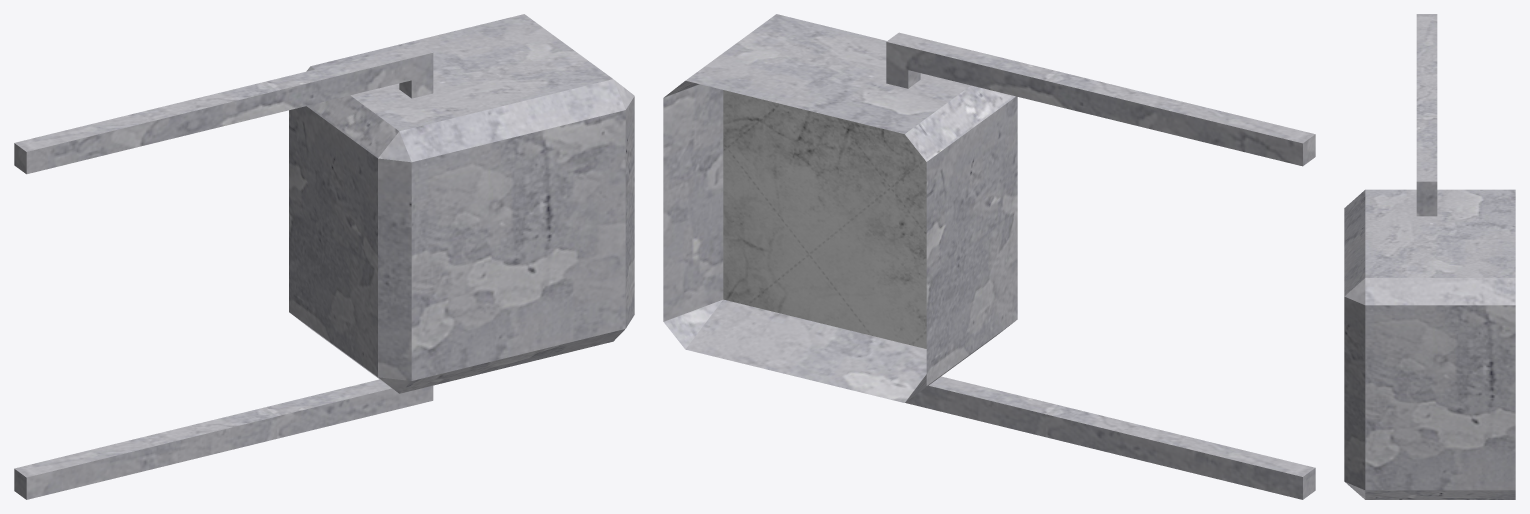
Rendered from Light_Flash.fbx.
3 views of the same model, side by side, from view 1: azimuth 30°, elevation 25°; view 2: azimuth 150°, elevation 25°; view 3: azimuth 270°, elevation 25° (orthographic). The views are drawn at different scales.
Parts seen in each view (by area): view 1: Component_1_1; view 2: Component_1_1; view 3: Component_1_1.
Boxes of the visible parts, <box> form: Component_1_1: <box>14,14,634,499</box>; Component_1_1: <box>663,14,1315,499</box>; Component_1_1: <box>1344,14,1515,499</box>.
Bounding box in the file's own units: 22.47 × 12.93 × 6.82.
